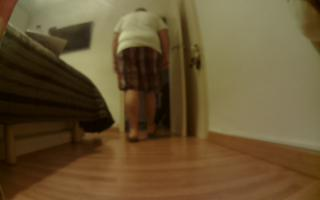person: (111, 6, 172, 144)
